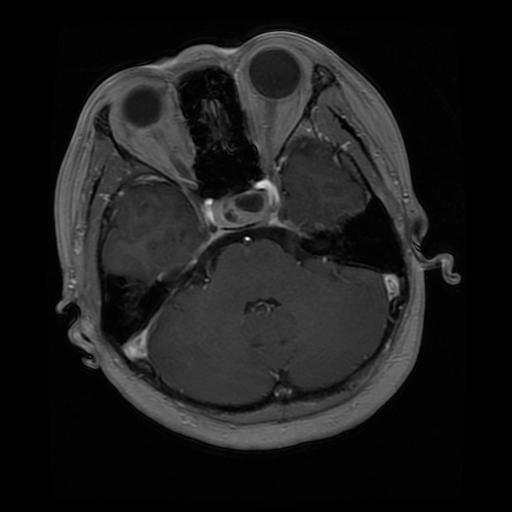Pituirity_tumour: (205, 179, 278, 230)
